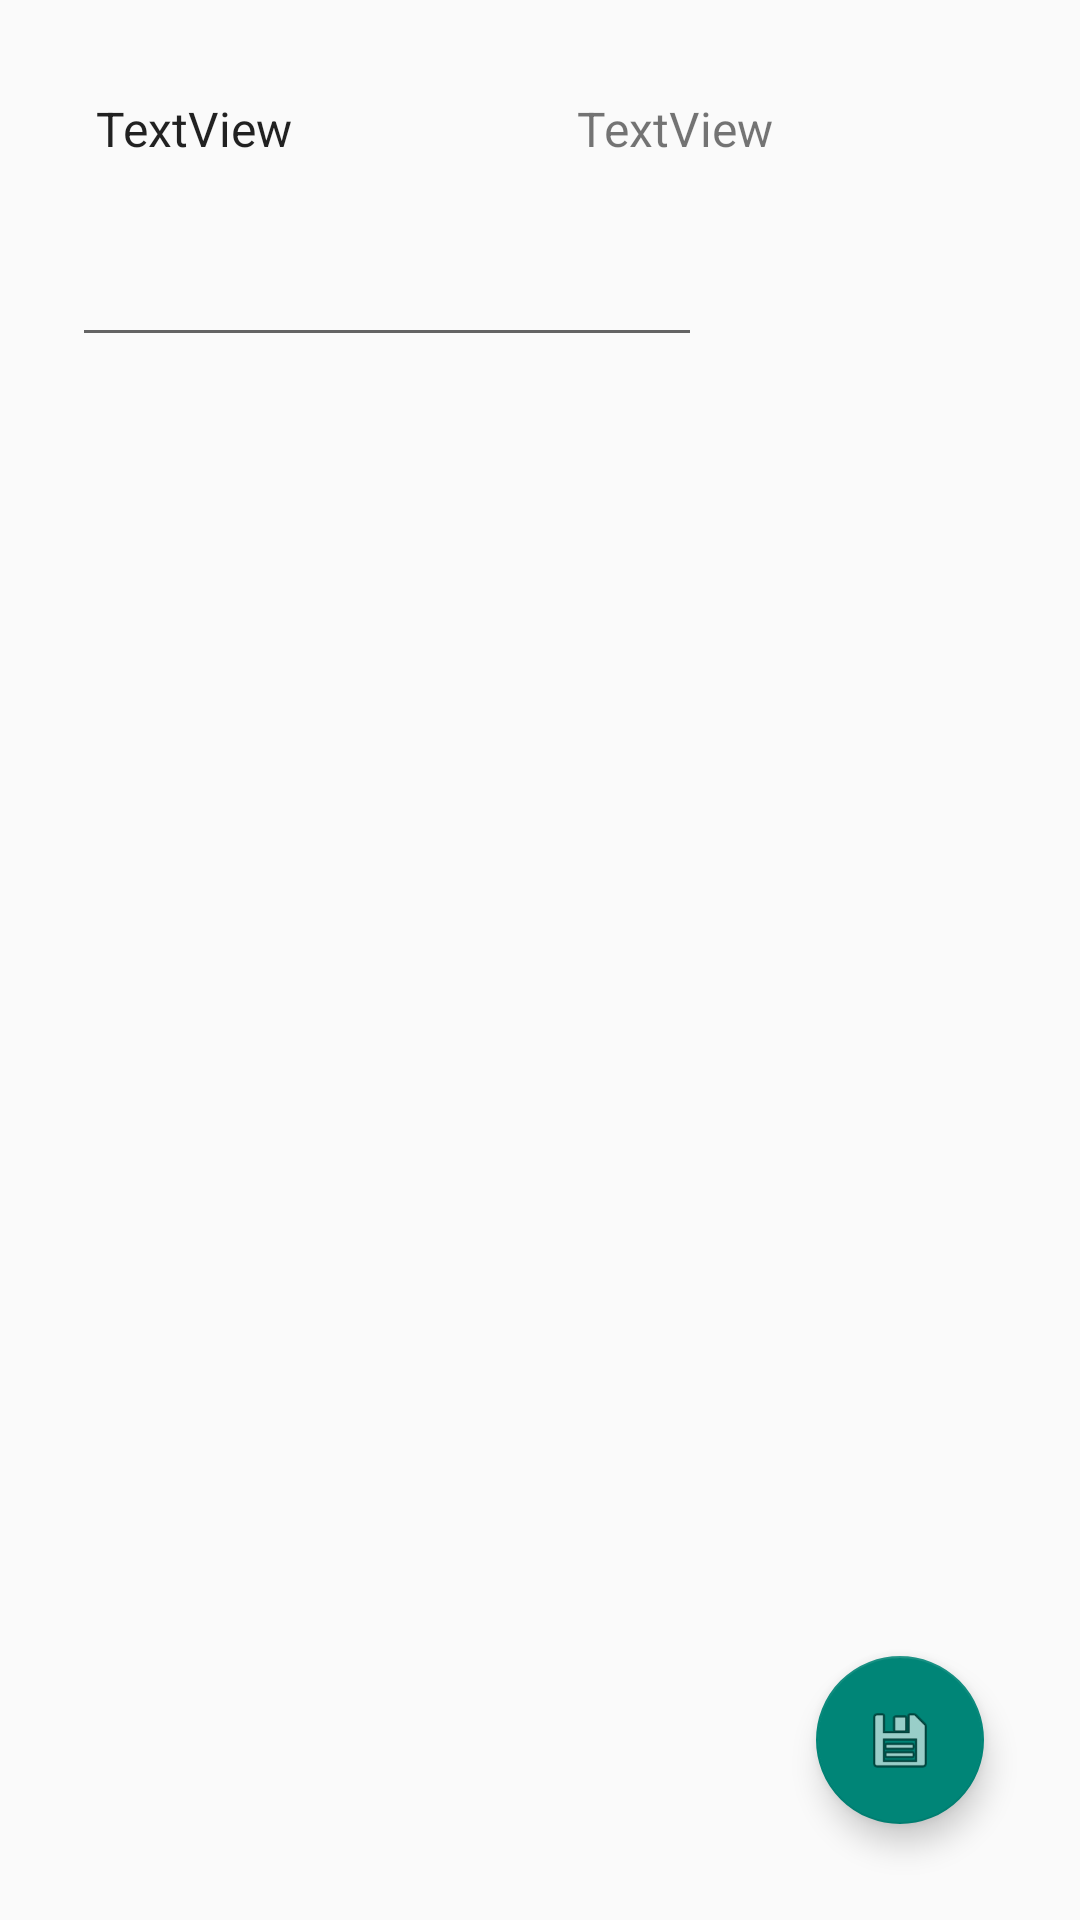

Icons on this 1080px×1920px Android screen, each with its box as (x1, y1, x2, y2):
save: (816, 1656, 984, 1824)
